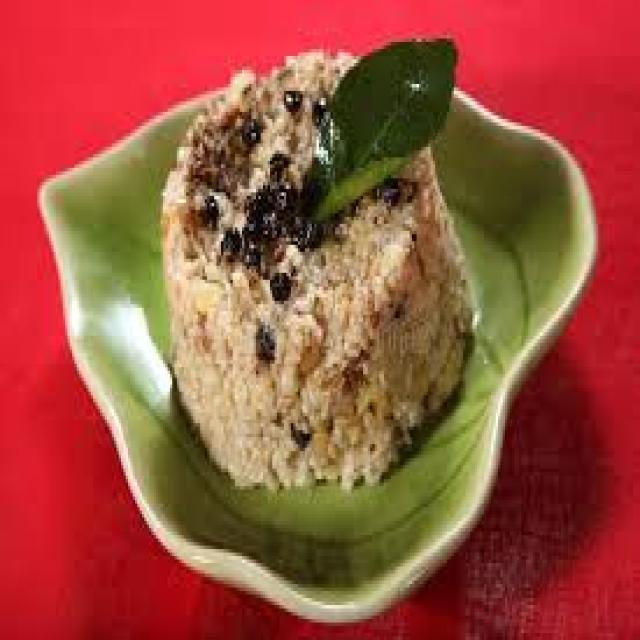UPMA: (163, 59, 475, 490)
